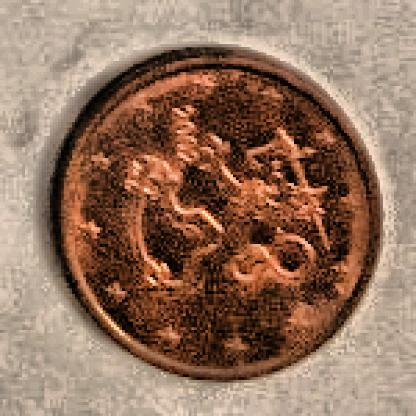coin: (53, 47, 383, 381)
